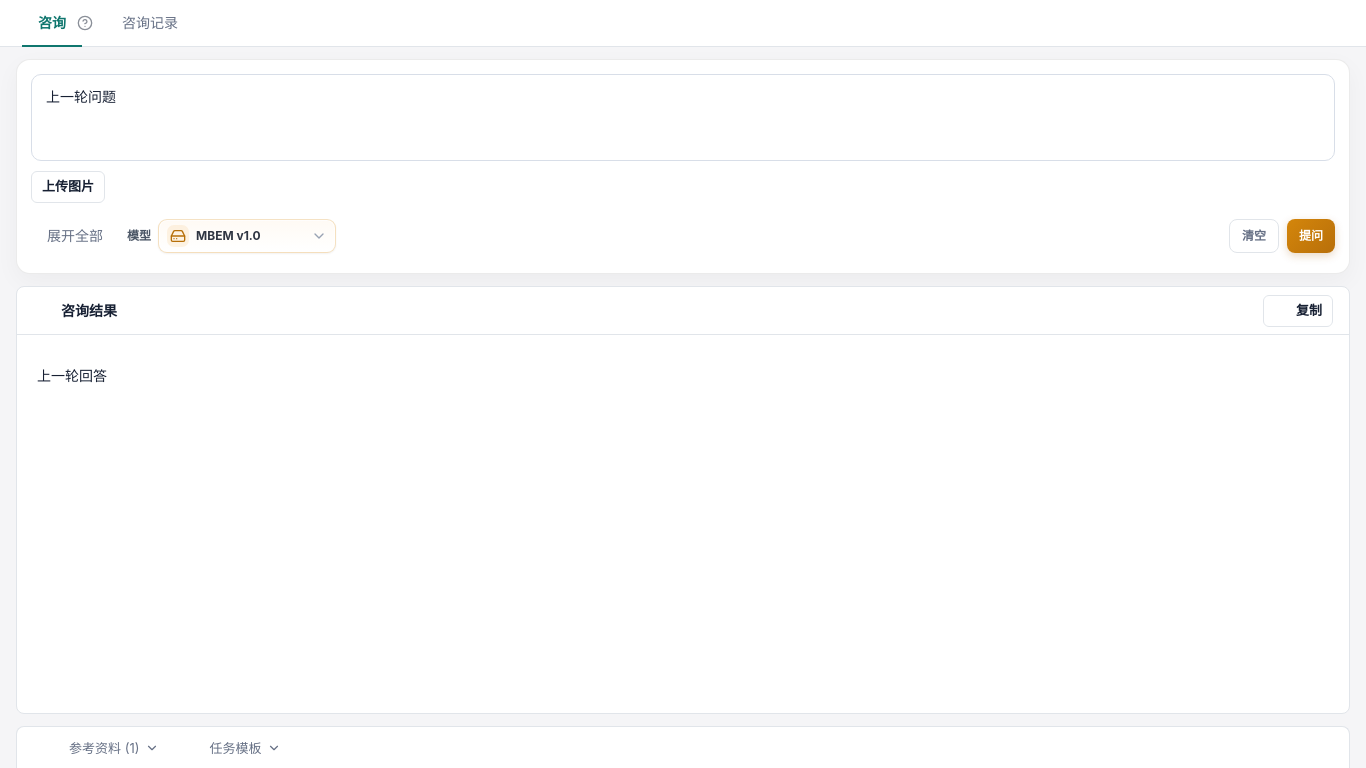
清空当前会话 › 点击清空后重置指令、咨询结果与参考资料
This screenshot has width=1366, height=768.
Check: the text "咨询结果" is shown, box [61,302,117,319]
Replace the text in the text box with test id "rag-panel-input" with "待清空的指令" at (683, 118), box [31,74,1335,161]
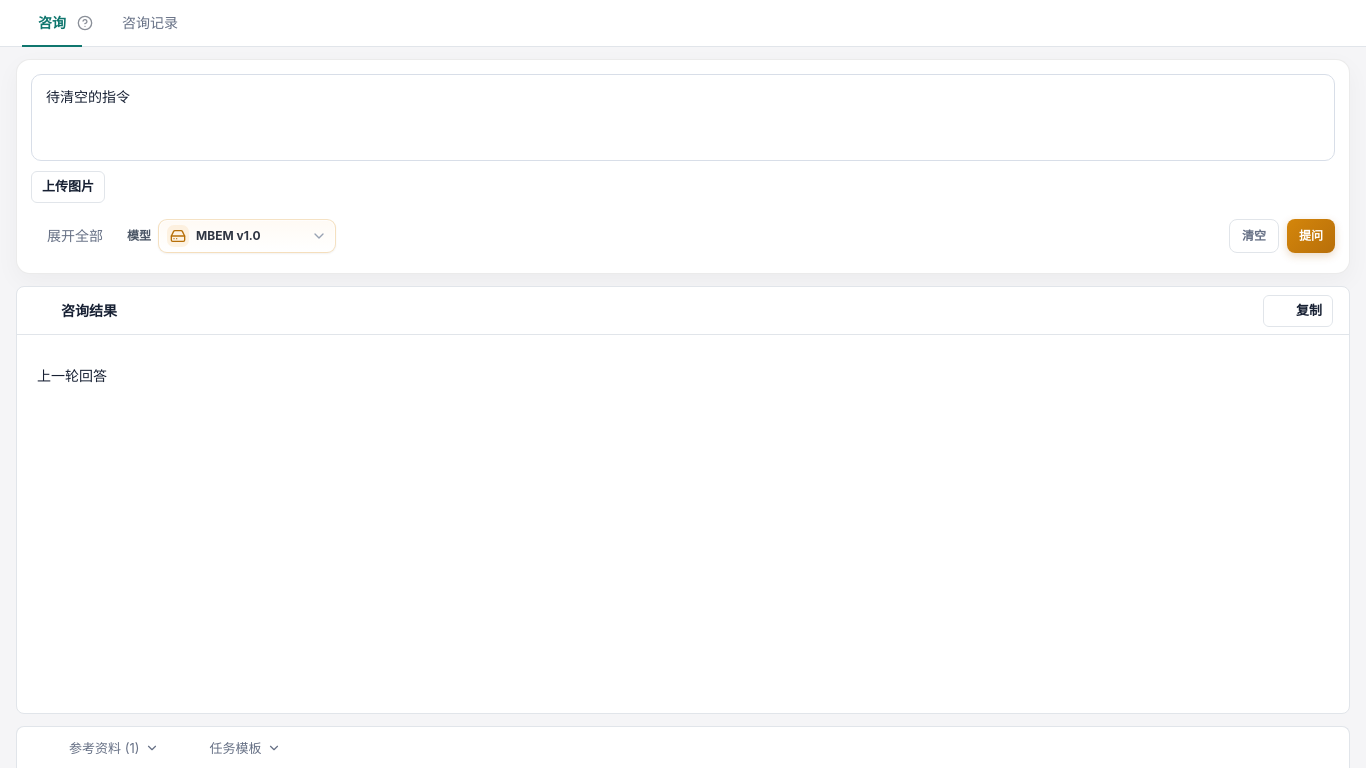
Check: the element with test id "rag-panel-answer" shows "上一轮回答", box [37,367,107,384]
Click the button "参考资料 (1)".
click(102, 747)  # box [33,726,172,767]
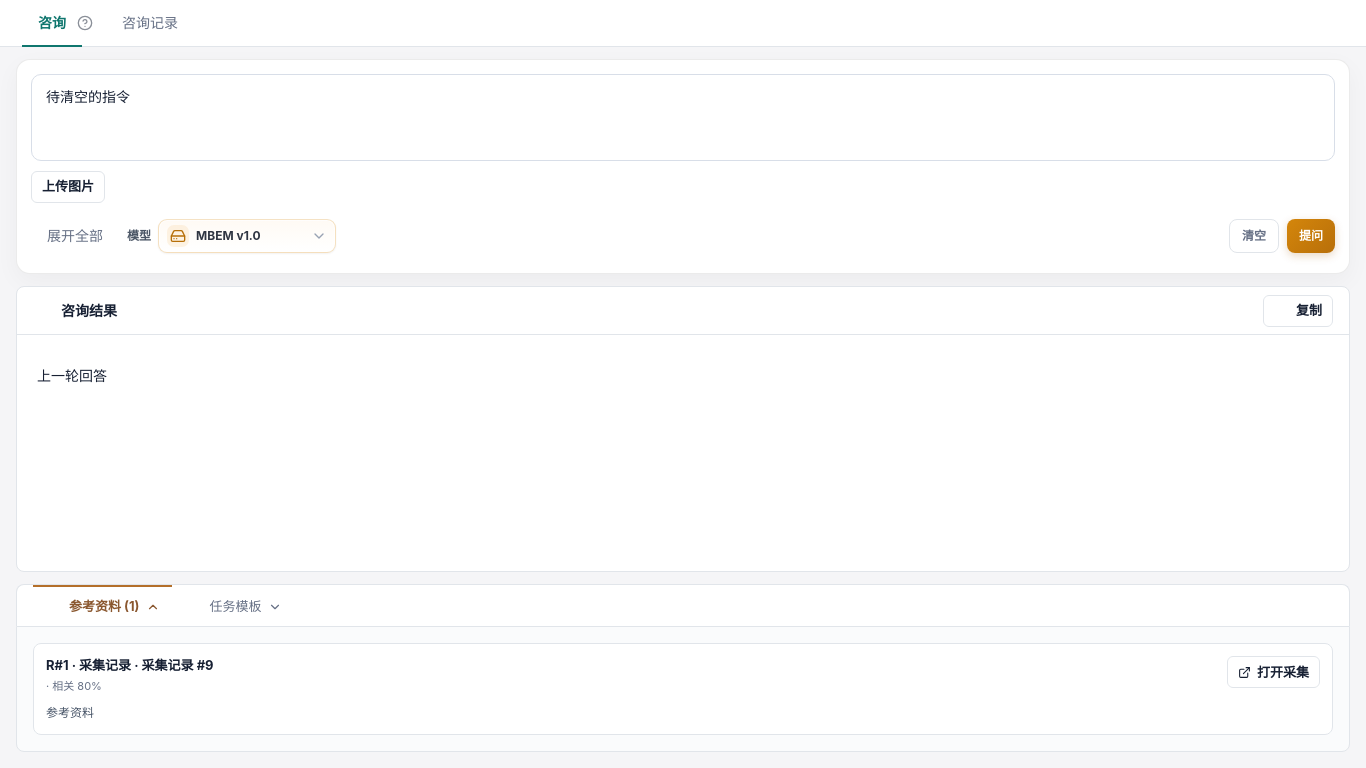
Check: the element with test id "rag-panel-contexts" is shown, box [33,643,1333,735]
Click the button with test id "rag-panel-clear".
click(1254, 236)  # box [1229,219,1279,253]
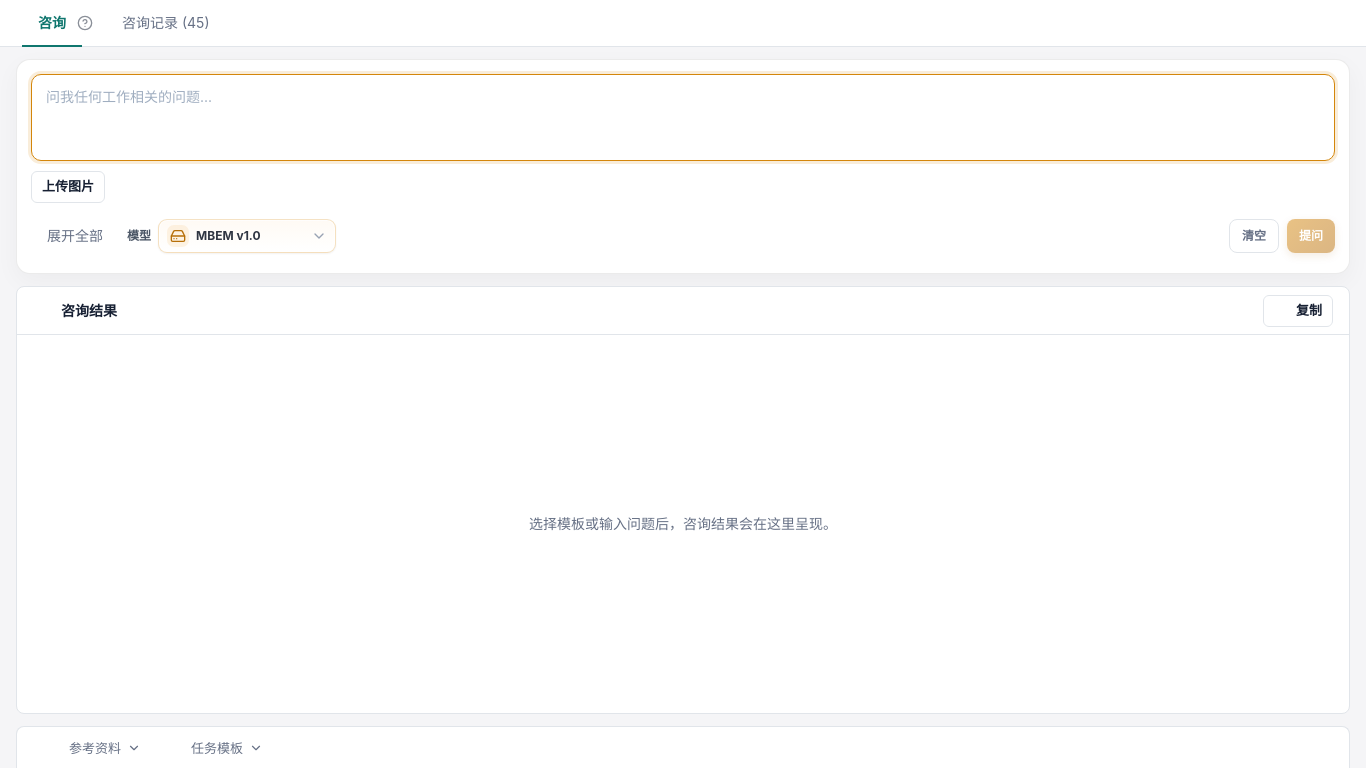
Check: the text box with test id "rag-panel-input" is empty, box [31,74,1335,161]
Check: the element with test id "rag-panel-answer" shows "选择模板或输入问题后，咨询结果会在这里呈现。", box [529,515,837,532]
Check: the element with test id "rag-panel-contexts" is gone
